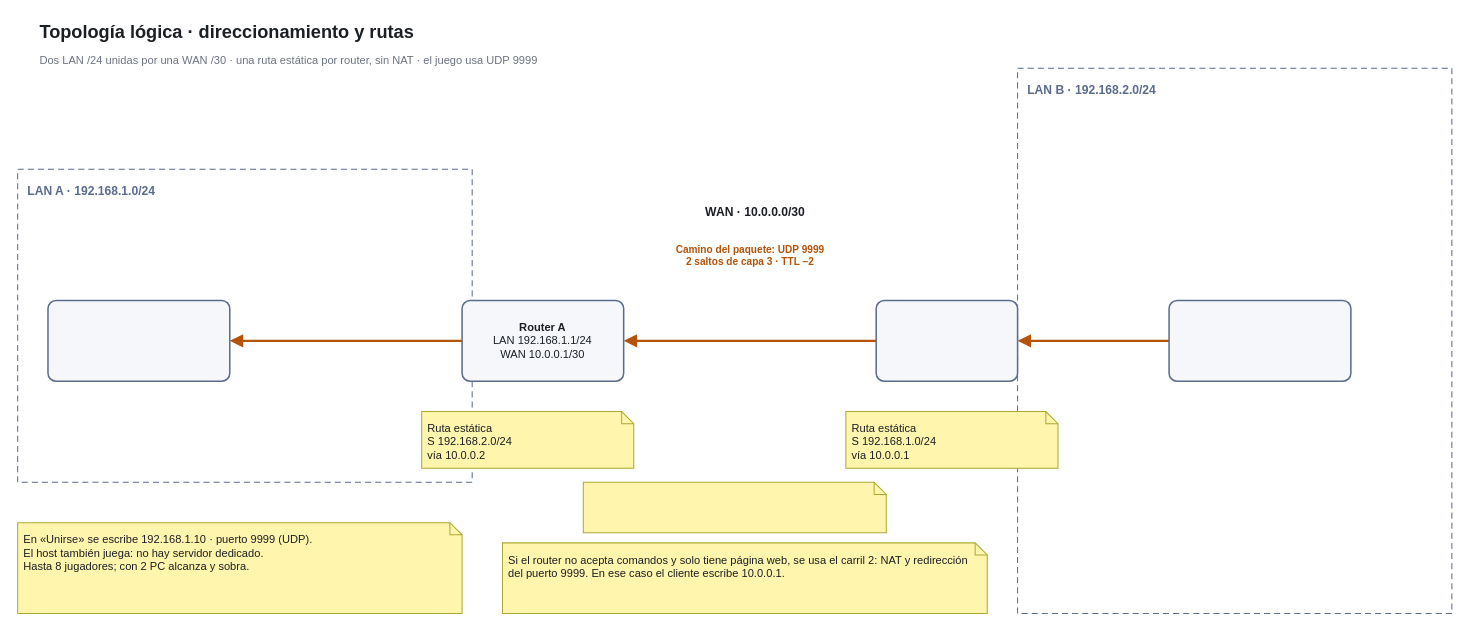
Image size: 1470x631. Some labels were removed from this diagram. The centre of each missing label's shape, as x and y in pixels:
PC1 · servidor 192.168.1.10/24 gw 192.168.1.1: the point at 138,340
PC2 · cliente 192.168.2.10/24 gw 192.168.2.1: the point at 1259,340
Router B WAN 10.0.0.2/30 LAN 192.168.2.1/24: the point at 946,340
Sin NAT: cada LAN conserva su direccionamiento y los routers solo enrutan.: the point at 734,507
